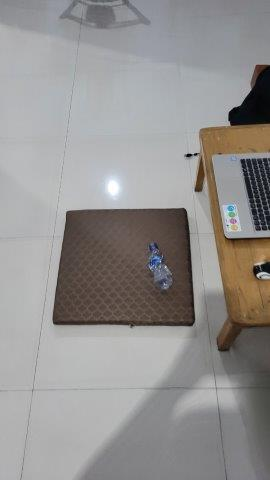botolplastik: (146, 242, 174, 291)
